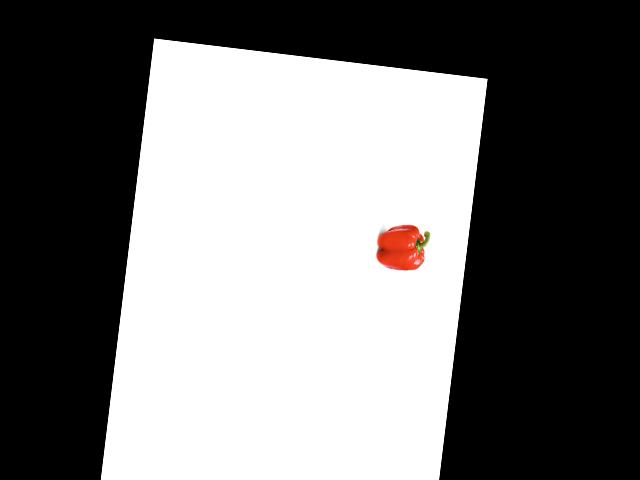bell_pepper: (373, 220, 432, 274)
